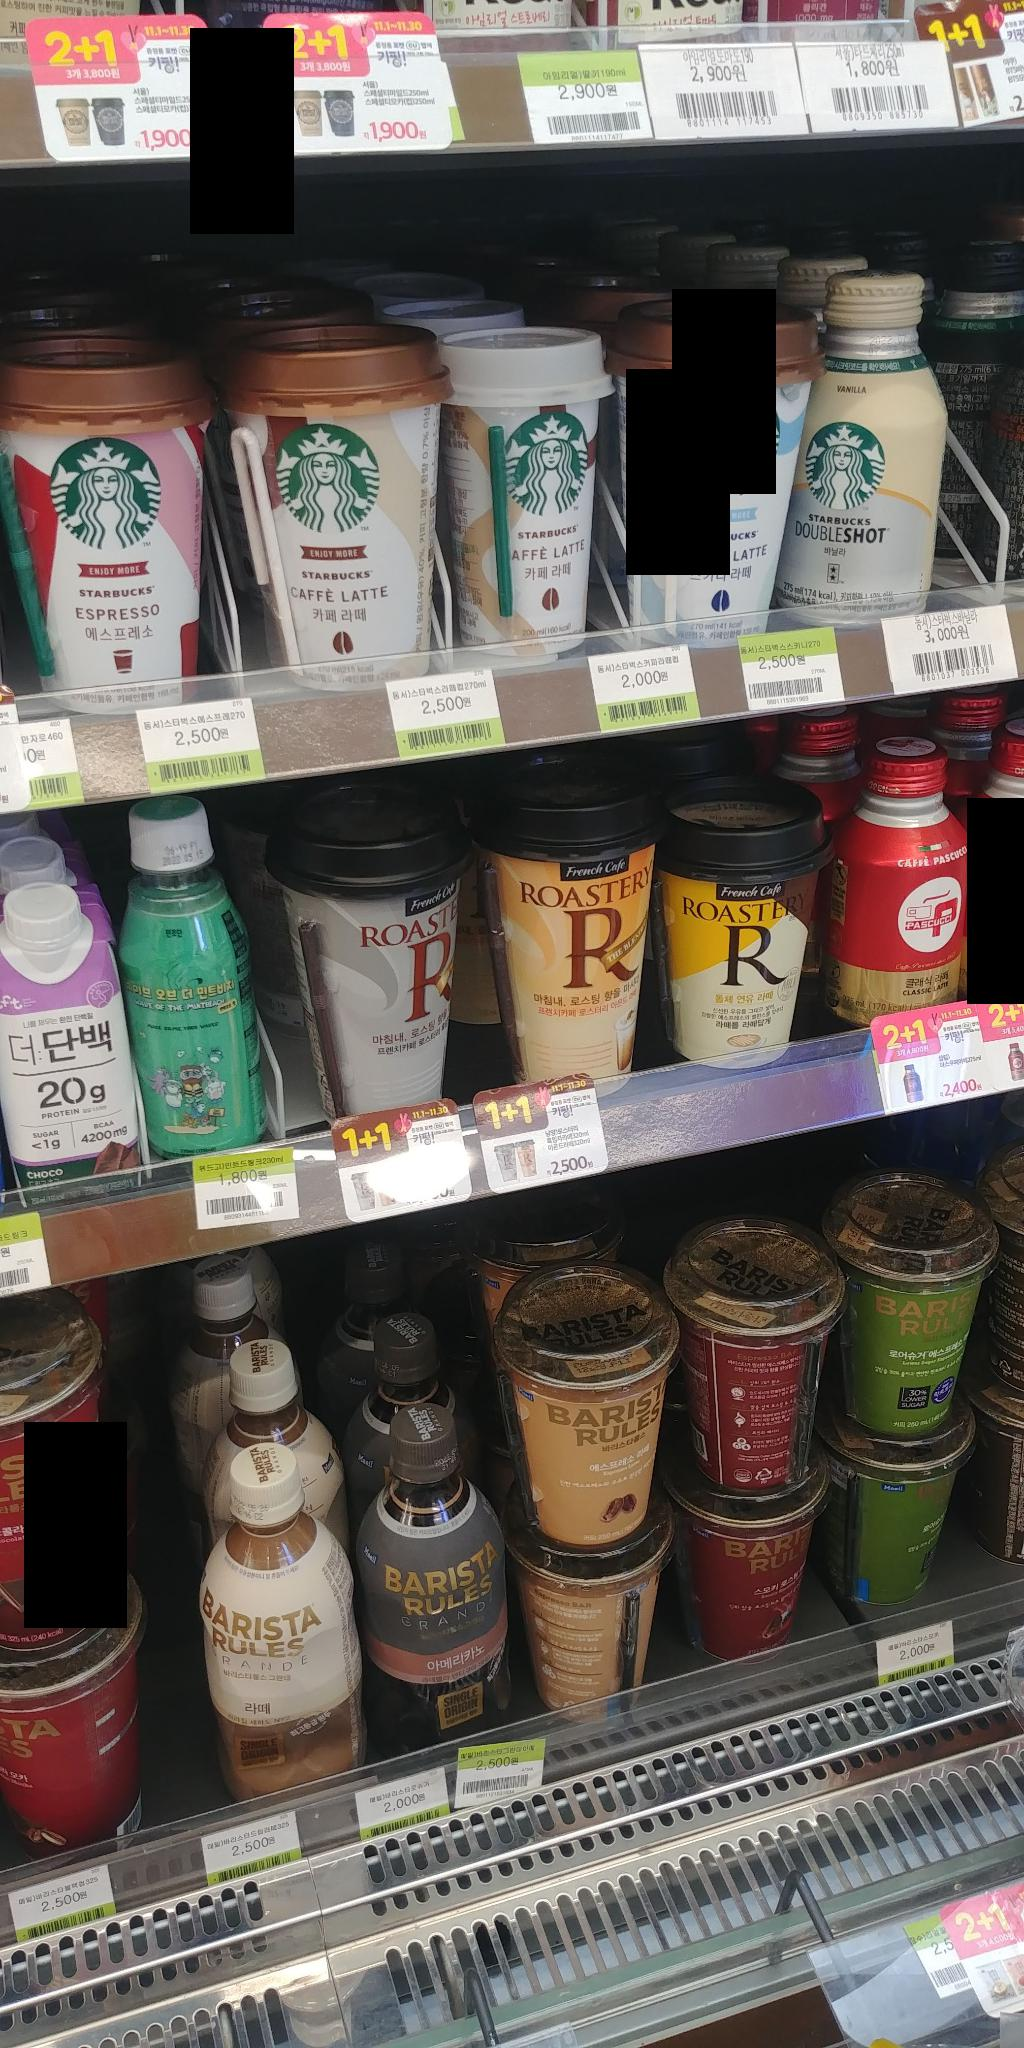baristarules_espressolatte: (513, 1289, 684, 1567)
starbucks_cafelatte: (243, 334, 462, 674)
